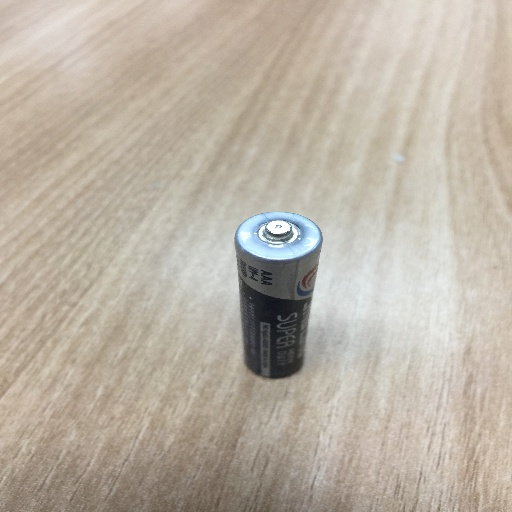Battery_0: (227, 193, 334, 405)
